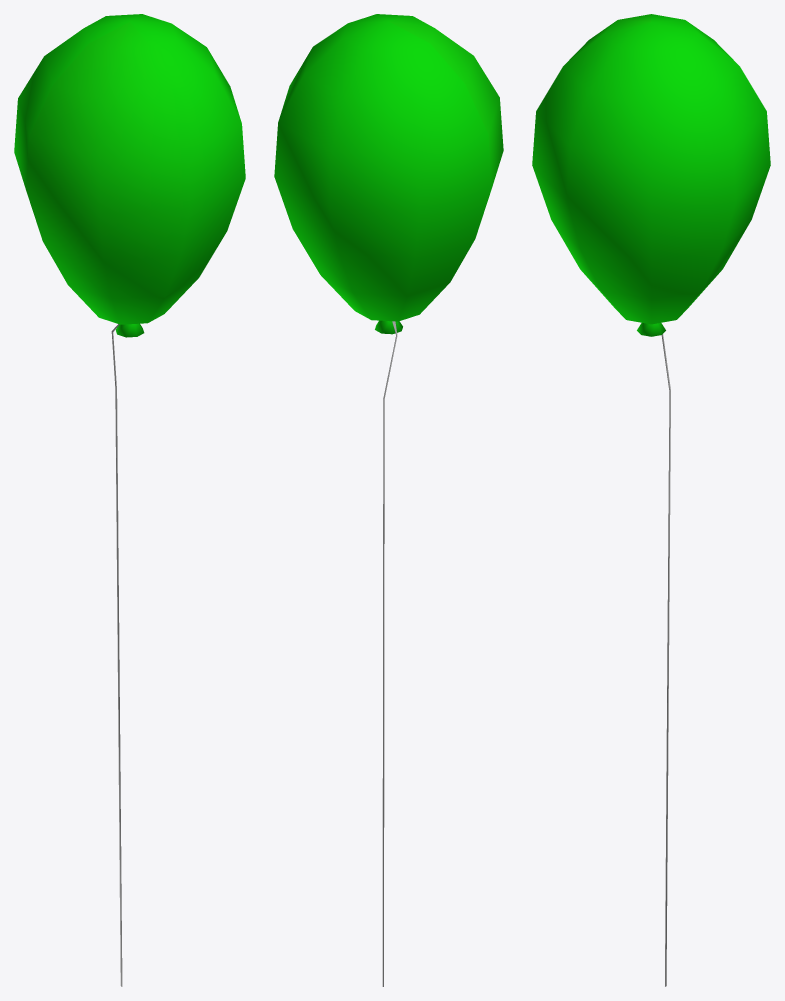
The model's file is BalloonGreen.glb.
3 views of the same model, side by side, from view 1: azimuth 30°, elevation 25°; view 2: azimuth 150°, elevation 25°; view 3: azimuth 270°, elevation 25° (orthographic).
Parts seen in each view (by area): view 1: BalloonGreen; view 2: BalloonGreen; view 3: BalloonGreen.
Part boxes in pixels (x1,y1,x2,y2): BalloonGreen: (14, 14, 245, 986); BalloonGreen: (274, 14, 503, 986); BalloonGreen: (532, 14, 770, 986).
Bounding box in the file's own units: 0.5007 × 2.23 × 0.5007.
Materials: 1 (1 with a texture image).
